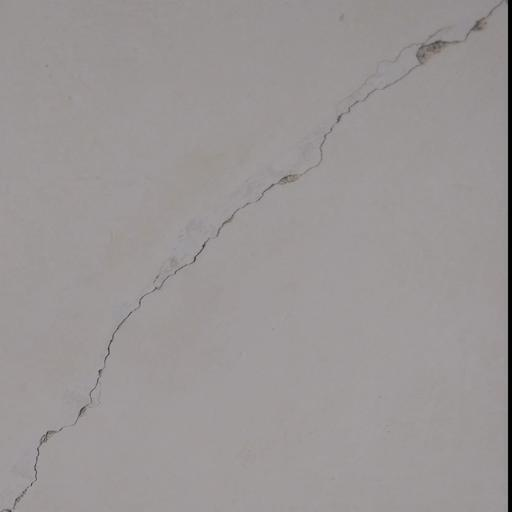major_crack: (18, 0, 506, 512)
